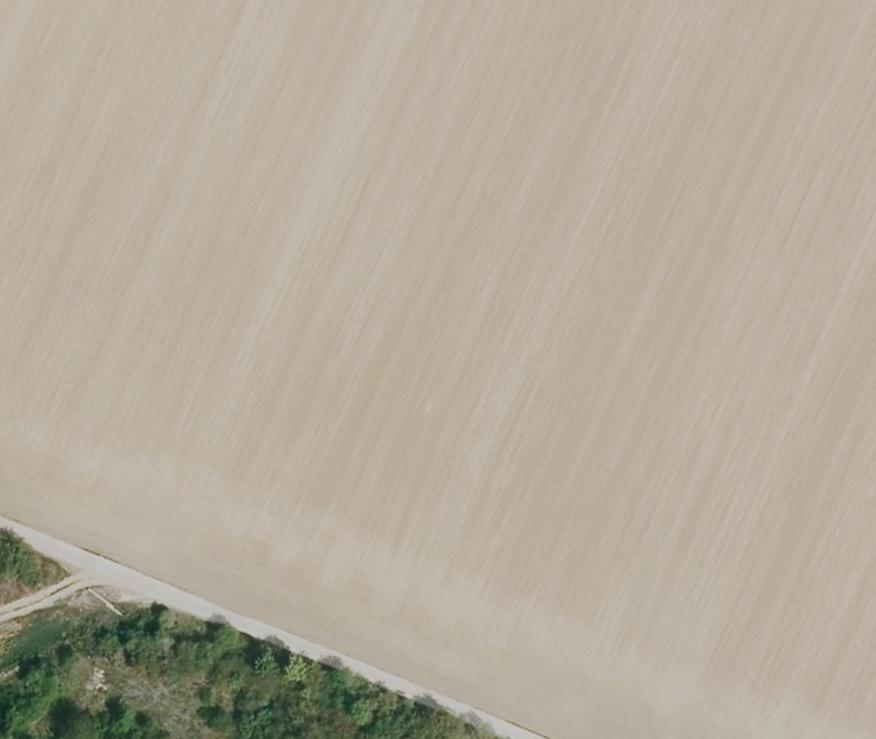field: (0, 3, 876, 735)
forest: (0, 604, 491, 737)
